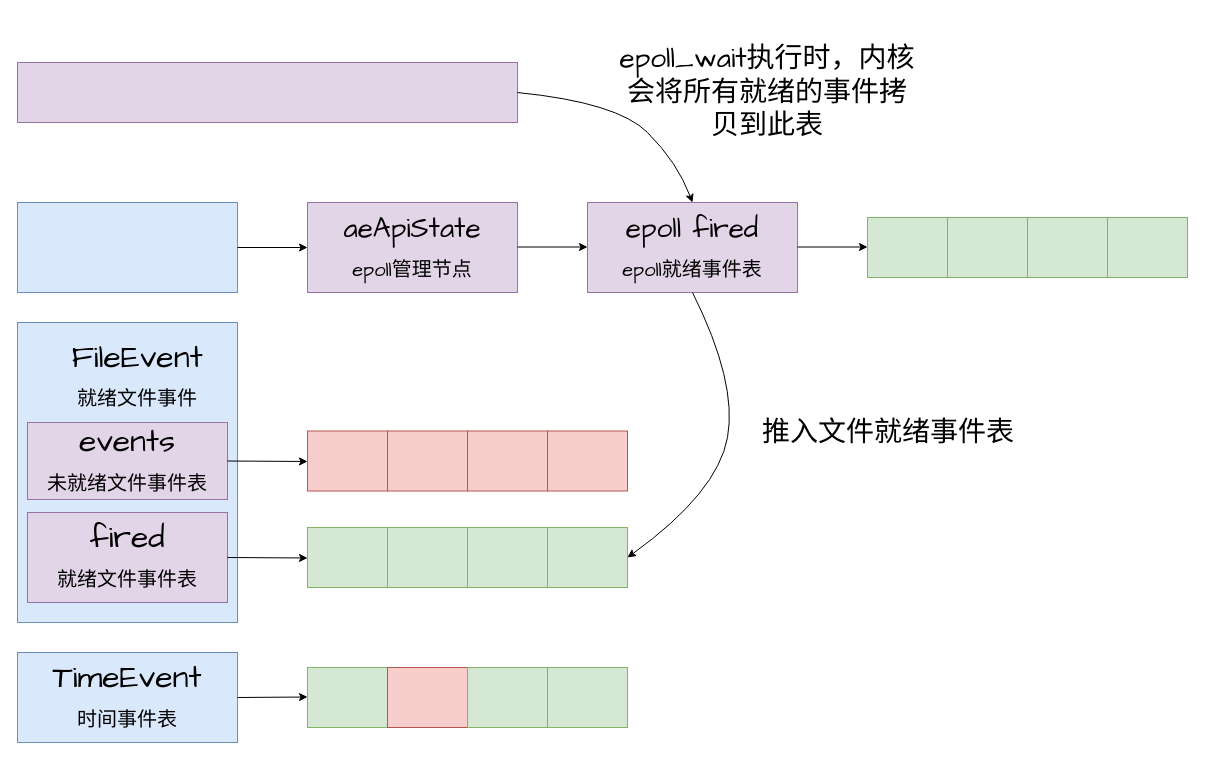
Image size: 1205x760. Some labels were removed from this diagram. The box of each missing label's shape, as (x1, y1, x2, y2) in pixels:
apidata: (16, 202, 238, 292)
内核就绪事件: (16, 62, 518, 122)
